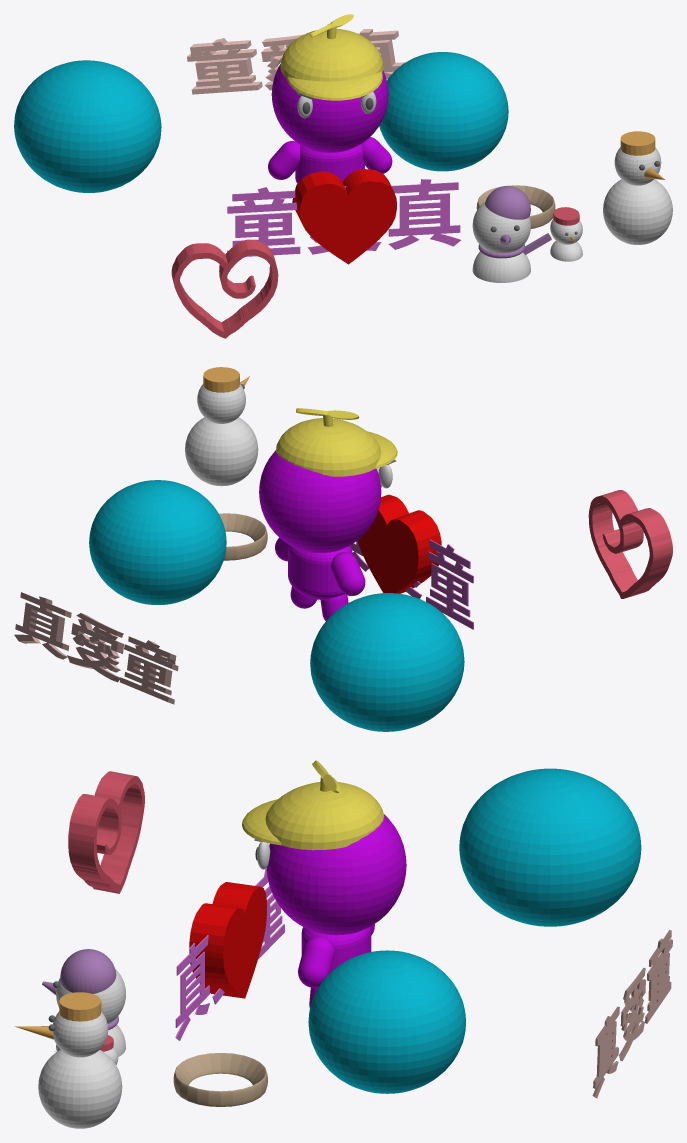
File: Joyce2.glb
3 renders of one model, top to bottom at view 1: azimuth 30°, elevation 25°; view 2: azimuth 150°, elevation 25°; view 3: azimuth 270°, elevation 25°, orthographic. The views are drawn at different scales.
Parts seen in each view (by area): view 1: Mesh_Mesh_head_geo.001_lambert2SG.001; view 2: Mesh_Mesh_head_geo.001_lambert2SG.001; view 3: Mesh_Mesh_head_geo.001_lambert2SG.001.
Part boxes in pixels (left/top/right/bottom): Mesh_Mesh_head_geo.001_lambert2SG.001: left=14, top=14, right=672, bottom=338; Mesh_Mesh_head_geo.001_lambert2SG.001: left=14, top=367, right=672, bottom=731; Mesh_Mesh_head_geo.001_lambert2SG.001: left=14, top=760, right=672, bottom=1128.
Size of the model in its own units: 189 by 75.46 by 188.
